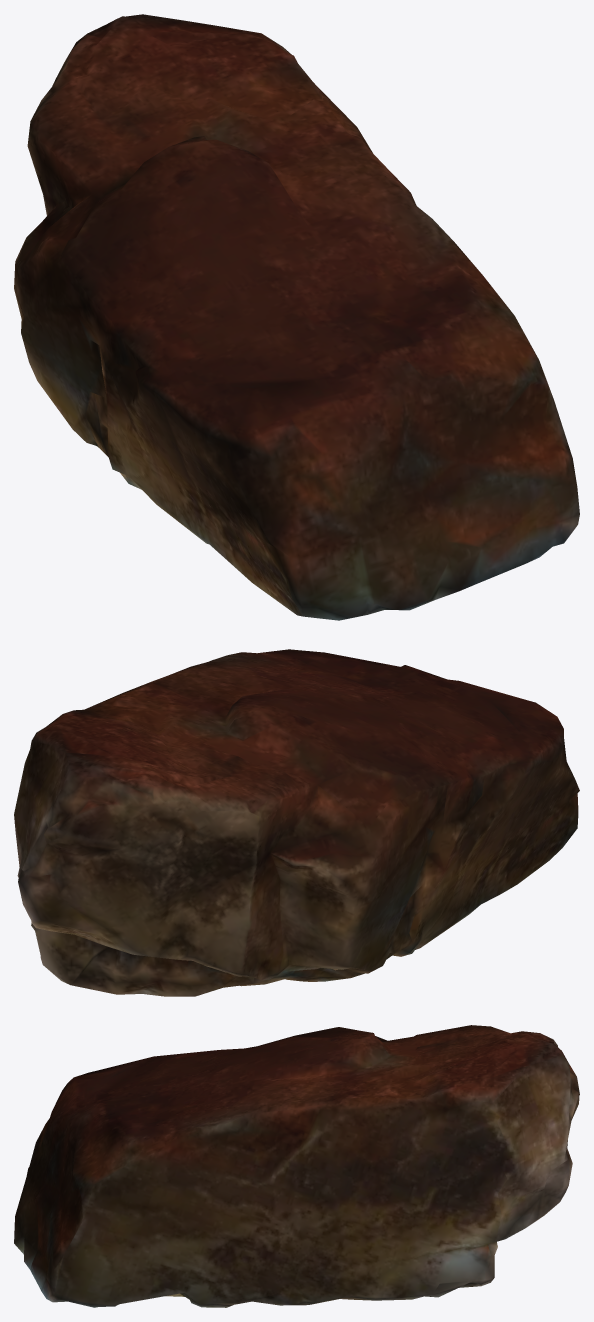
The model's file is rock_07.glb.
3 renders of one model, top to bottom at view 1: azimuth 30°, elevation 25°; view 2: azimuth 150°, elevation 25°; view 3: azimuth 270°, elevation 25°, orthographic. The views are drawn at different scales.
Parts seen in each view (by area): view 1: rock_07; view 2: rock_07; view 3: rock_07.
Boxes of the visible parts, box(x1,y1,x2,y2) form: rock_07: box(14, 14, 579, 620); rock_07: box(14, 649, 579, 996); rock_07: box(14, 1025, 579, 1307).
Size of the model in its own units: 0.1686 by 0.1434 by 0.3199.
Materials: 1 (1 with a texture image).
